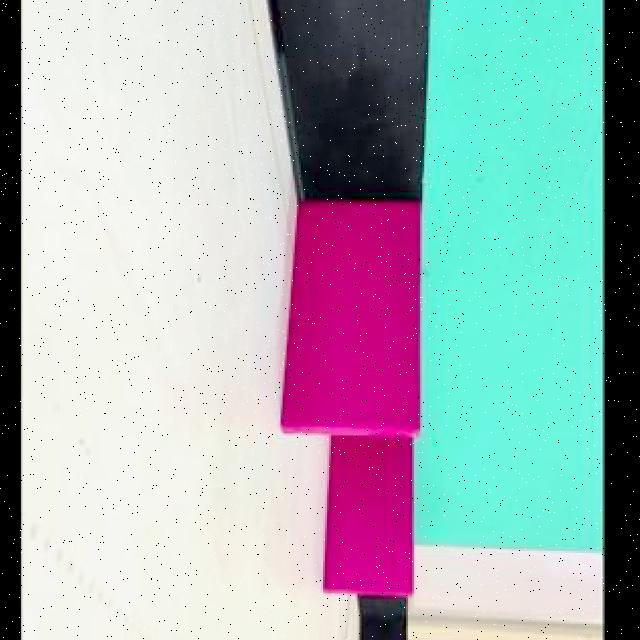xparking: (298, 208, 416, 428), (333, 444, 408, 594)
